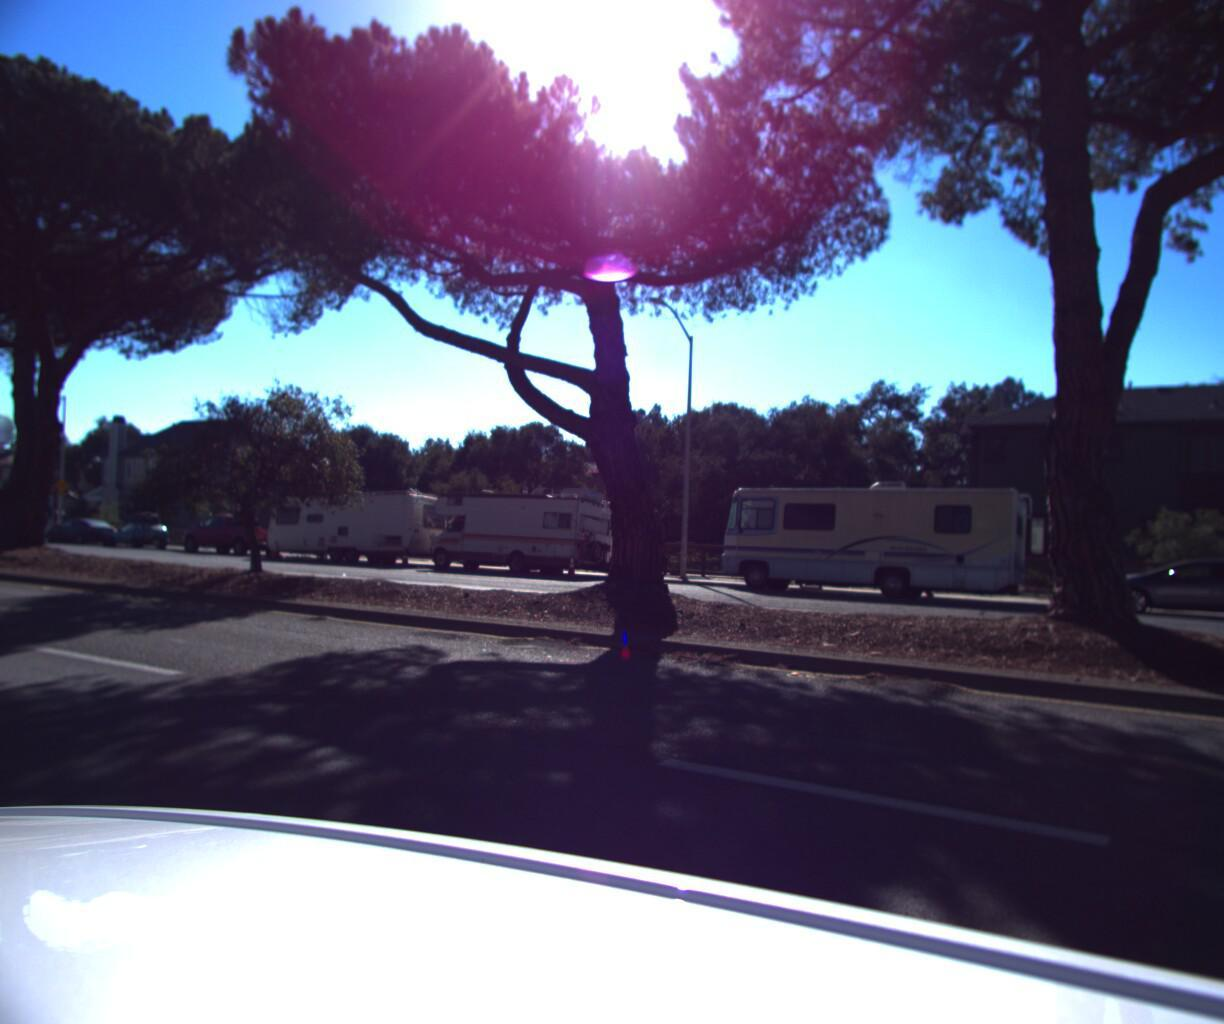car: (1077, 550, 1224, 633), (174, 513, 298, 561), (98, 513, 182, 555), (39, 517, 127, 550)
other_vehicle: (707, 476, 1030, 609), (418, 482, 653, 579), (259, 481, 464, 573)
